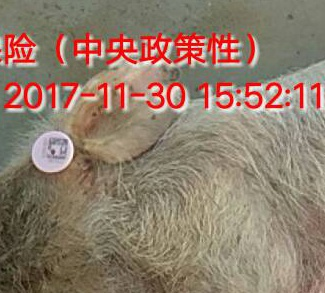text: (19, 121, 90, 185)
